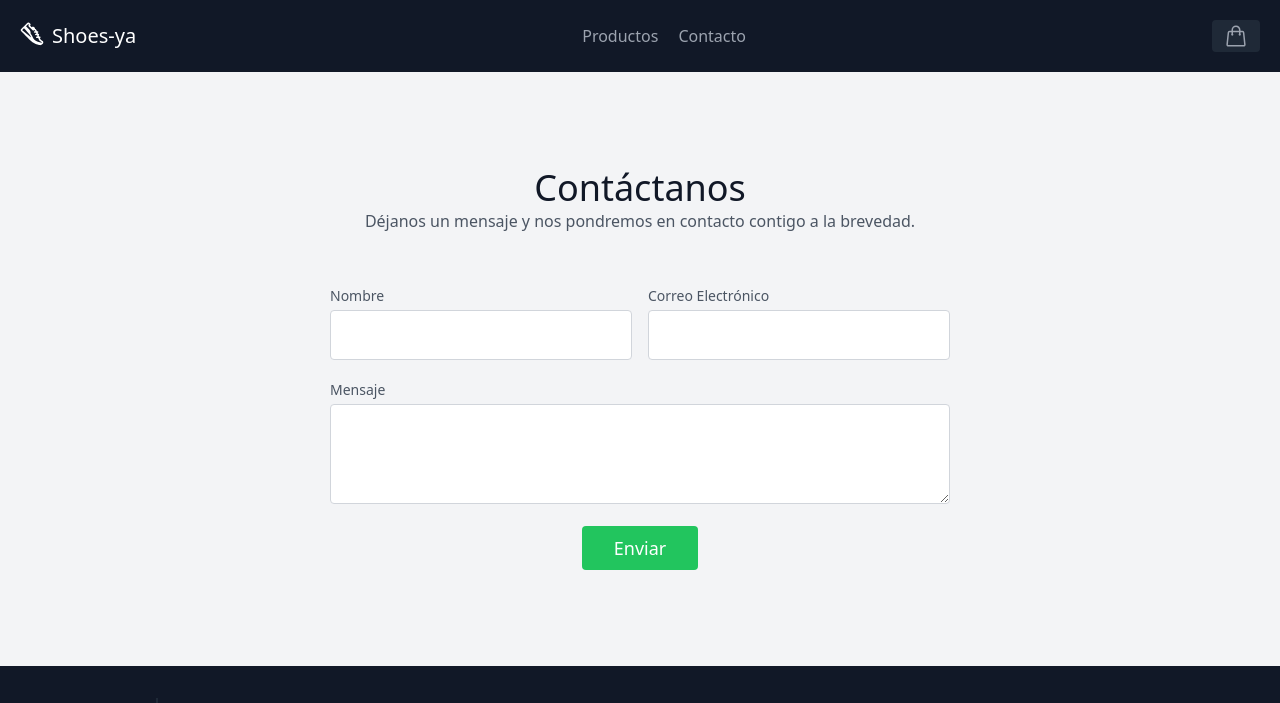
Test: Formulario de Contacto - Shoes-Ya › Debería mostrar errores de validación si faltan campos obligatorios
The width and height of the screenshot is (1280, 703).
Note: Intentar enviar el formulario sin completar los campos
Click the submit button.
click(641, 548)  # box [582, 526, 699, 570]
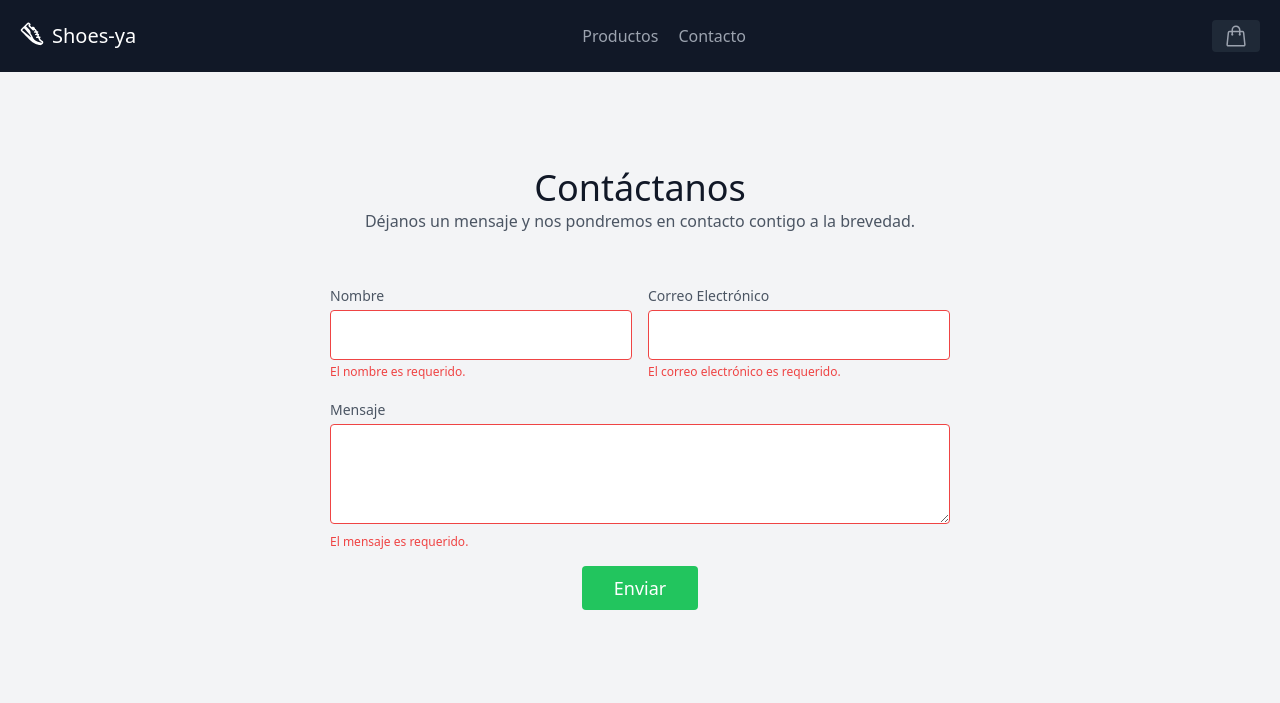
Result: the text "El nombre es requerido." is shown at [330, 363, 465, 380]
Result: the text "El correo electrónico es requerido." is shown at [648, 363, 841, 380]
Result: the text "El mensaje es requerido." is shown at [330, 533, 468, 550]
